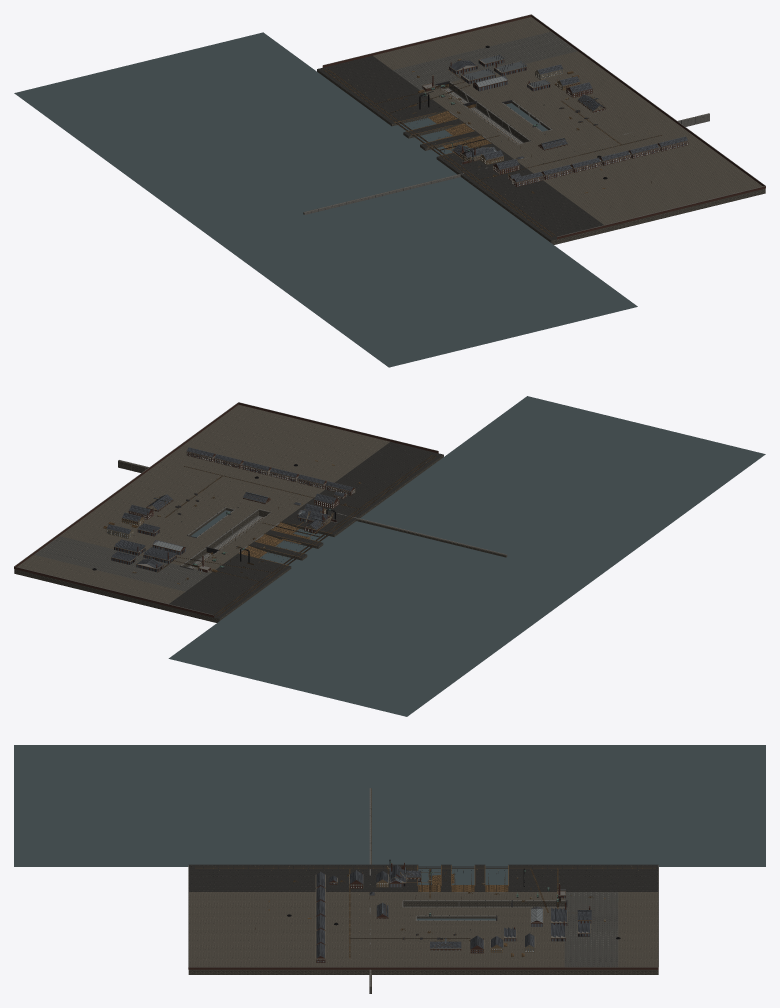
Rendered from port_b_full.fbx.
3 views of the same model, one above another, from view 1: azimuth 30°, elevation 25°; view 2: azimuth 150°, elevation 25°; view 3: azimuth 270°, elevation 25° (orthographic). The views are drawn at different scales.
Visible parts, largest first — view 1: B_ground, B_rail, B_princess_dock; view 2: B_ground, B_rail, B_princess_dock; view 3: B_ground, B_princess_dock, B_rail.
Boxes of the visible parts, <box> form: B_ground: <box>14,17,765,367</box>; B_rail: <box>322,68,661,236</box>; B_princess_dock: <box>436,81,531,144</box>; B_ground: <box>14,396,765,716</box>; B_rail: <box>158,455,436,616</box>; B_princess_dock: <box>180,509,271,569</box>; B_ground: <box>14,745,765,974</box>; B_princess_dock: <box>402,900,566,907</box>; B_rail: <box>195,866,655,958</box>.
Bounding box in the file's own units: 85956 × 3655 × 112000.
